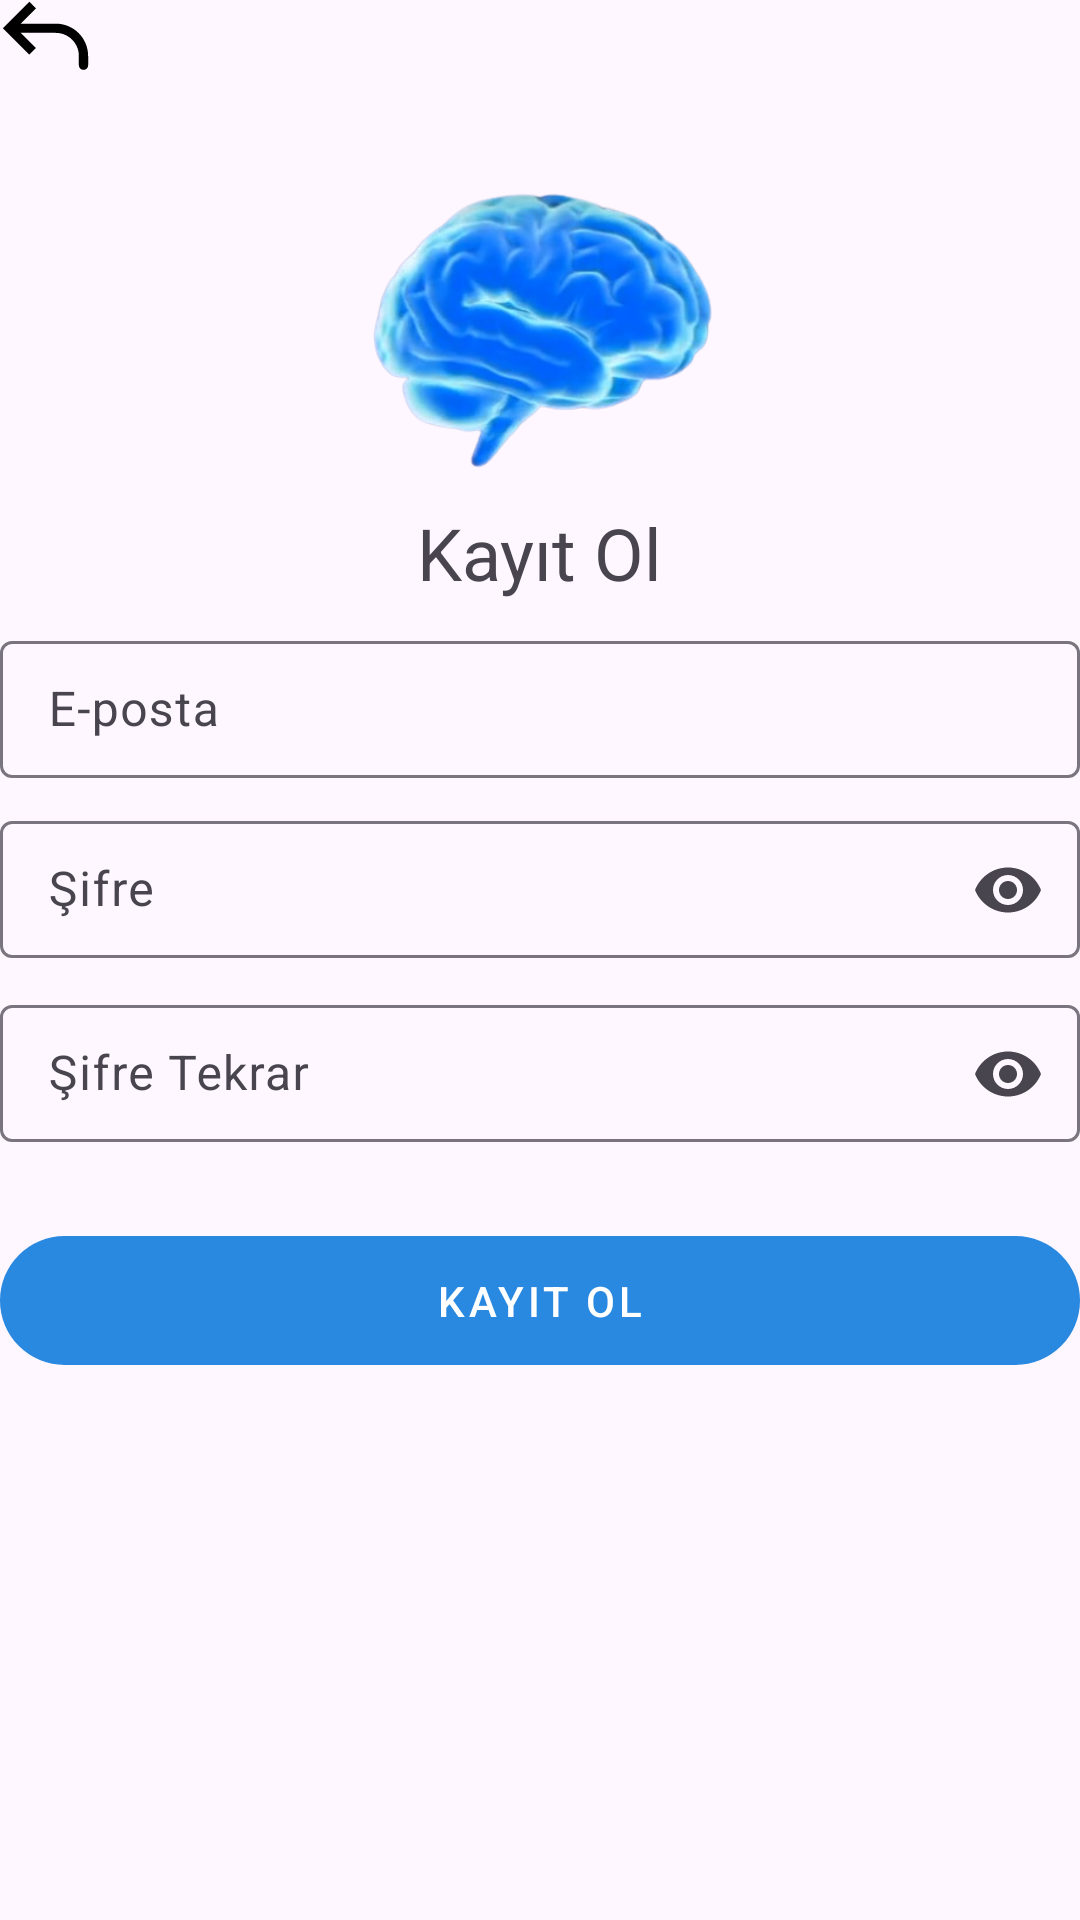

Icon bounding boxes for this 1080*1920 phone screenshot, format (x1,y1,x2,y2):
back: (3,2,89,70)
